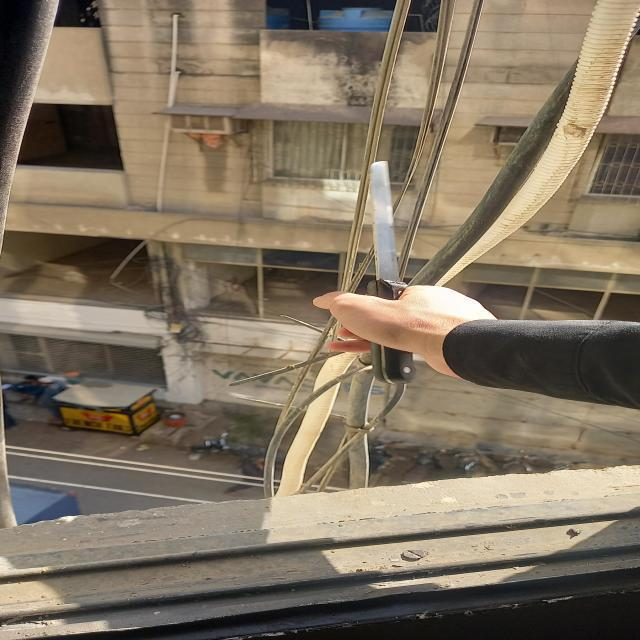faca: (374, 161, 420, 385)
